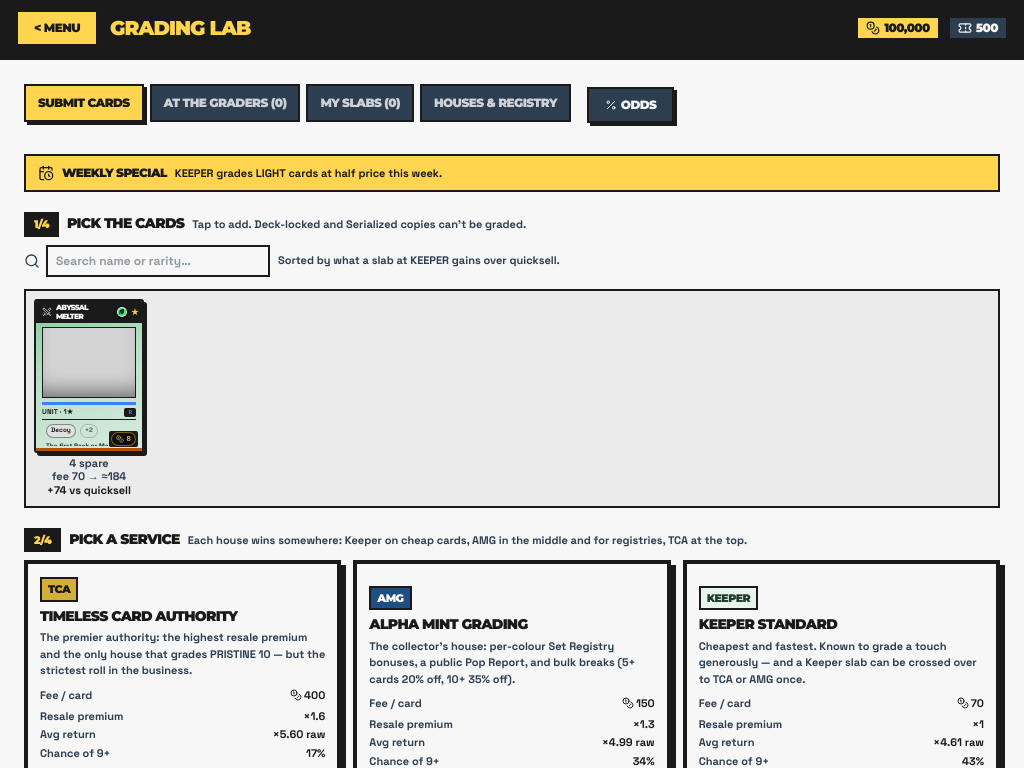
Test case: picking cards › shows a count badge on a selected card and none before
Expected: the tab "AT THE GRADERS (0)" is shown, [150,84,300,122]
Expected: the text "4 spare" is shown, [69,456,109,470]
Click the button with aria-label "Abyssal Melter, Unit · 1★, tier 1". click: (89, 376)
box: [34,298,144,452]
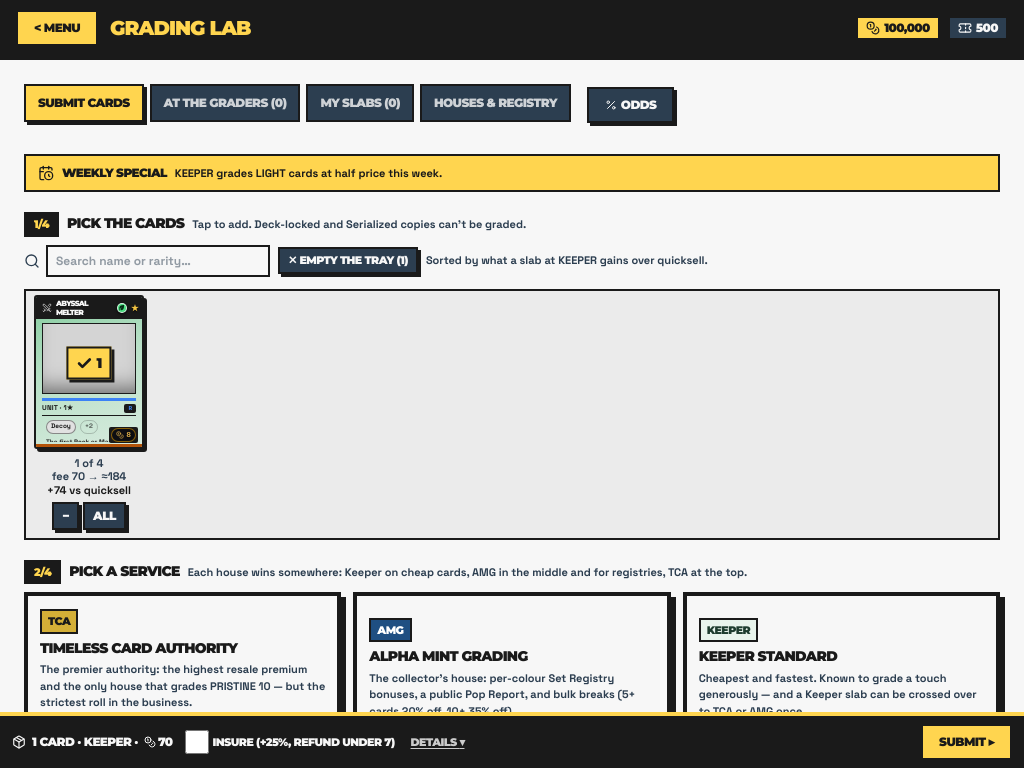
Click the button with aria-label "Abyssal Melter, Unit · 1★, tier 1". click: (89, 372)
box: [34,294,144,448]
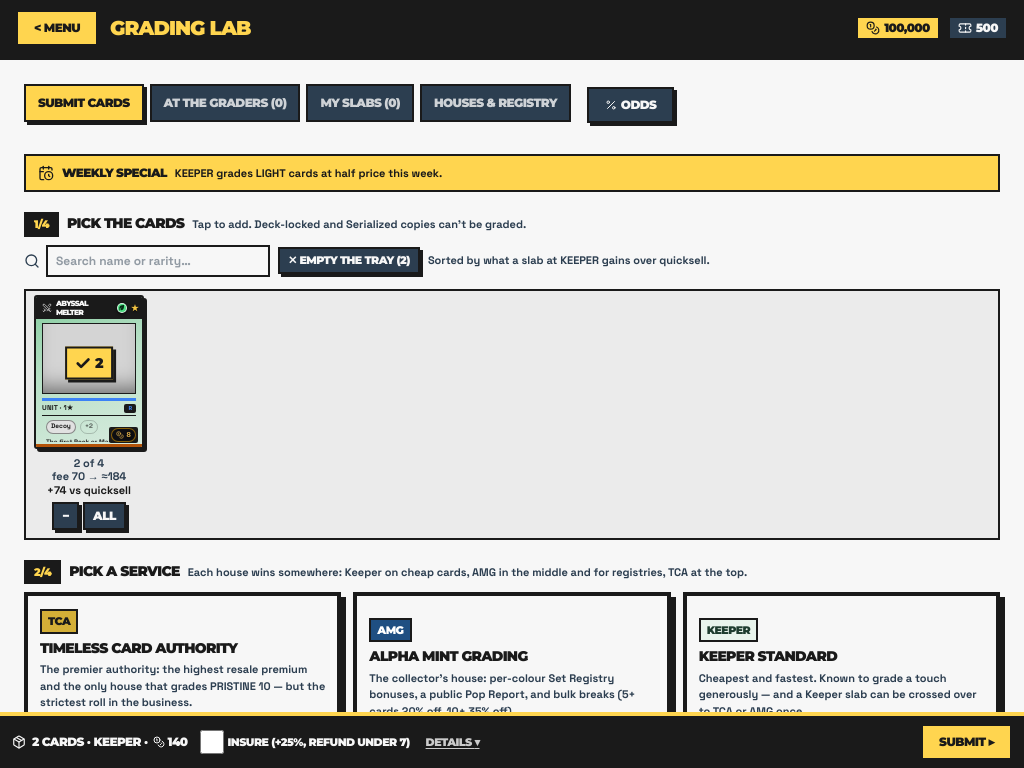
Expected: the text "2 of 4fee 70 → ≈184+74 vs quicksell" is shown, [47,456,131,497]
